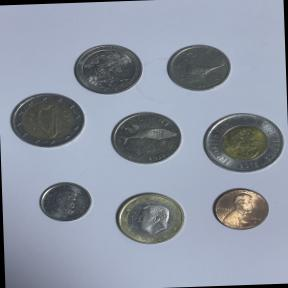1 Euro-B: (109, 186, 192, 249)
2 Euro-B: (5, 90, 90, 156)
Canada-10cent-B: (34, 176, 95, 225)
Canada-2Dollar-B: (196, 104, 288, 181)
Croatia-2Kune-B: (104, 104, 189, 172)
US-1cent-B: (207, 181, 274, 233)
US-25cent-B: (70, 40, 146, 96)
